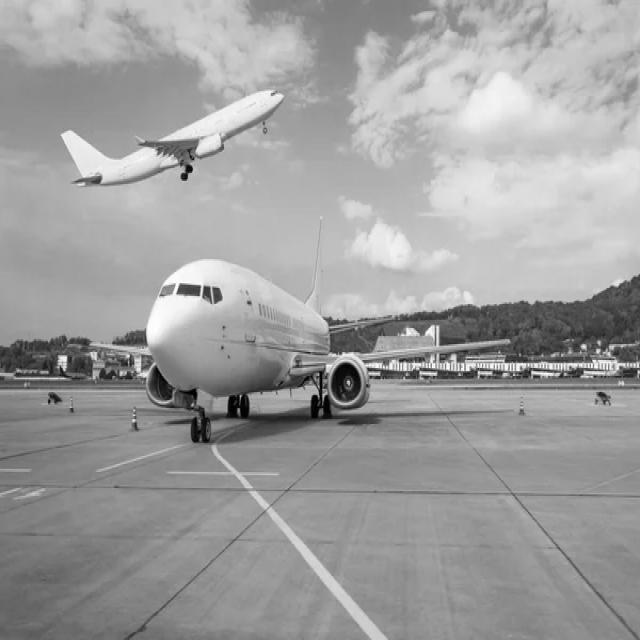Aircraft: (83, 218, 494, 452), (52, 78, 290, 211)
